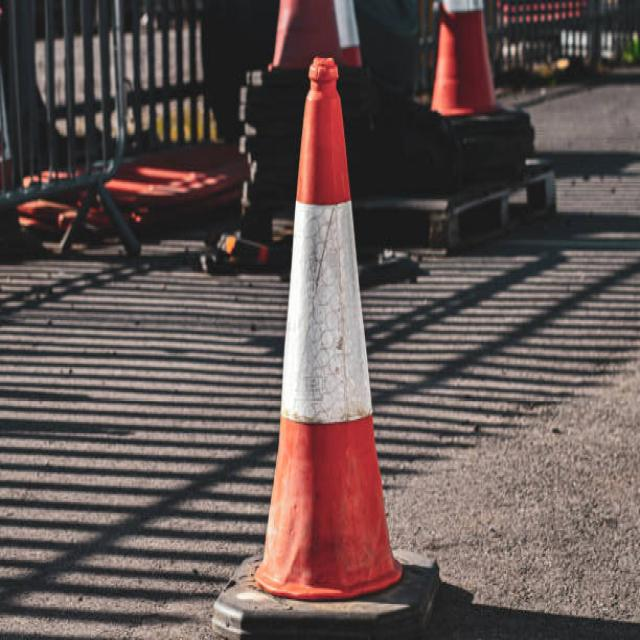Traffic Cone: (209, 26, 464, 640)
